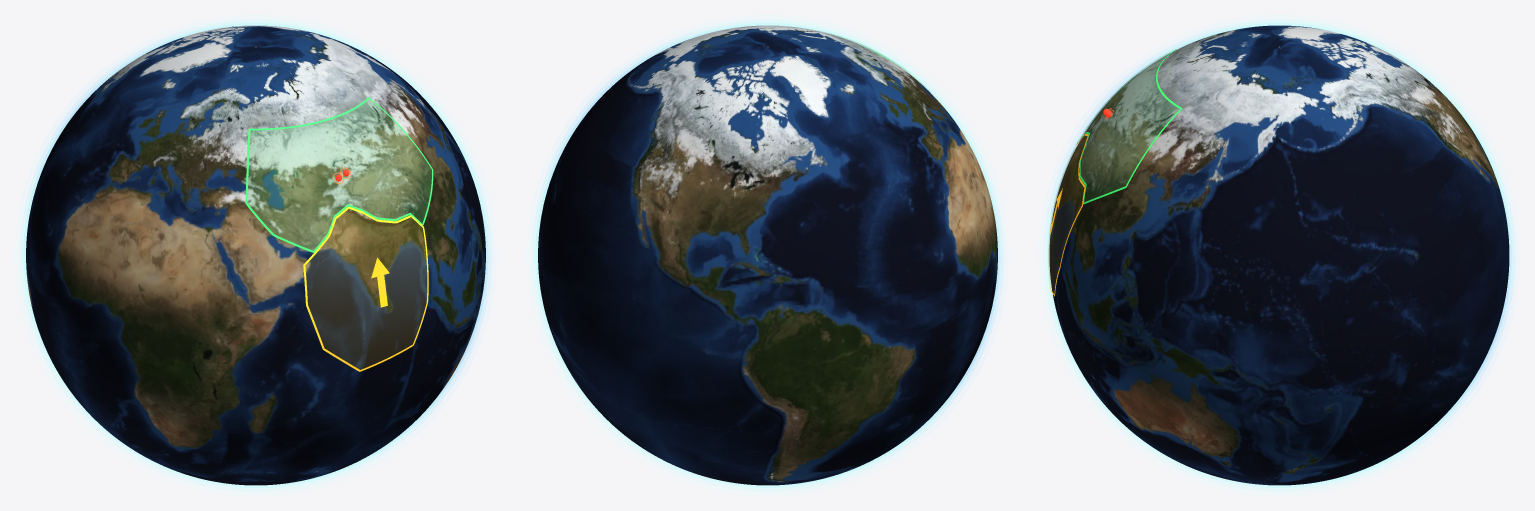
The model's file is earth-layers.glb.
3 renders of one model, left to right at view 1: azimuth 30°, elevation 25°; view 2: azimuth 150°, elevation 25°; view 3: azimuth 270°, elevation 25°, orthographic.
Parts seen in each view (by area): view 1: Crust, Plate_Eurasian, Plate_Indian, AtmosphereHalo; view 2: Crust, AtmosphereHalo; view 3: Crust, AtmosphereHalo, Plate_Eurasian, Plate_Indian.
Boxes of the visible parts, bbox=[...] form: Crust: bbox=[26, 25, 485, 485]; Plate_Eurasian: bbox=[245, 97, 433, 252]; Plate_Indian: bbox=[303, 206, 428, 371]; AtmosphereHalo: bbox=[20, 19, 491, 491]; Crust: bbox=[538, 25, 997, 485]; AtmosphereHalo: bbox=[532, 19, 1003, 491]; Crust: bbox=[1049, 25, 1509, 485]; AtmosphereHalo: bbox=[1043, 19, 1515, 491]; Plate_Eurasian: bbox=[1077, 49, 1182, 204]; Plate_Indian: bbox=[1048, 133, 1088, 296].
Size of the model in its own units: 5.04 by 5.04 by 5.04.
17 materials, 5 textured.
